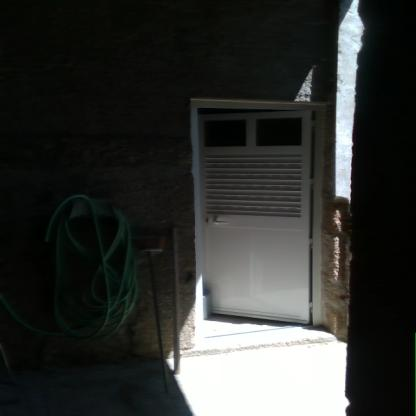semi: (180, 94, 336, 354)
